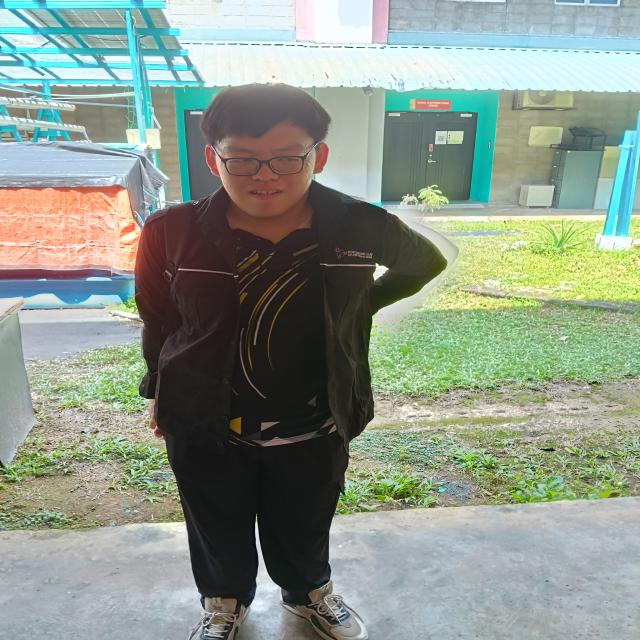person_with_labcoat: (135, 84, 447, 640)
